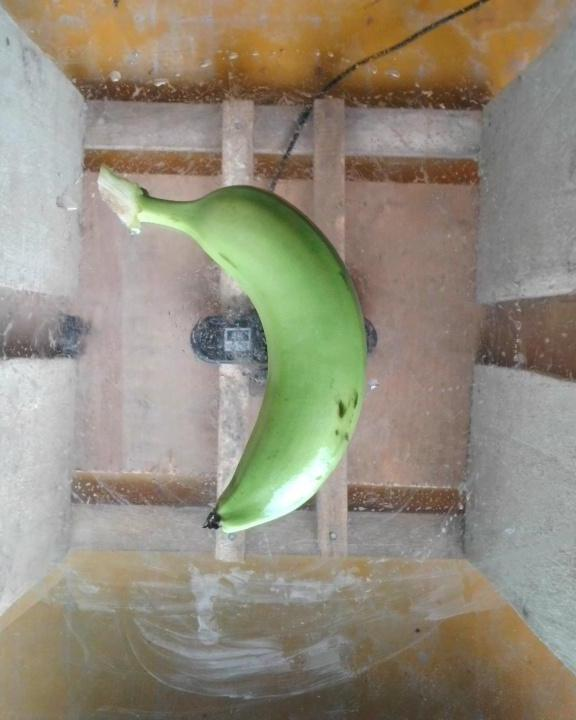CLASS B: (96, 157, 378, 545)
Class A: (329, 383, 365, 444)
